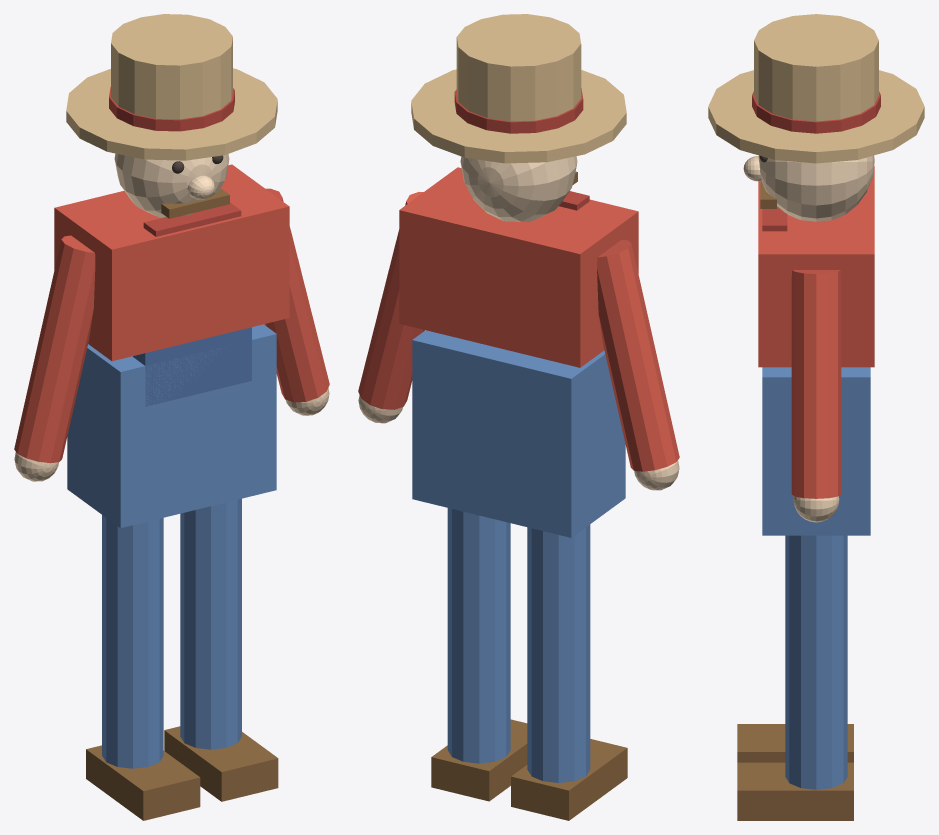
Rendered from farmer.glb.
The picture shows the model from 3 angles, left to right: view 1: azimuth 30°, elevation 25°; view 2: azimuth 150°, elevation 25°; view 3: azimuth 270°, elevation 25°; orthographic projection.
Parts seen in each view (by area): view 1: Overalls, Shirt, Leg_L, Leg_R, Hat, Arm_L, HatBrim, OverallsBib, Boot_L, Arm_R, Boot_R, Head (+4 smaller); view 2: Overalls, Shirt, Leg_L, Leg_R, Hat, Arm_L, HatBrim, Head, Arm_R, Boot_L, Boot_R, HatBand (+2 smaller); view 3: Leg_R, Shirt, Hat, Arm_R, Overalls, HatBrim, Head, Boot_R, Boot_L, HatBand, Hand_R, ShirtCollar.
Boxes of the visible parts, x1,y1,x2,y2 form: Overalls: [67, 324, 276, 528]; Shirt: [54, 164, 289, 361]; Leg_L: [102, 515, 163, 768]; Leg_R: [180, 498, 241, 749]; Hat: [111, 14, 232, 119]; Arm_L: [14, 235, 95, 463]; HatBrim: [66, 68, 277, 160]; OverallsBib: [133, 327, 251, 406]; Boot_L: [86, 745, 200, 820]; Arm_R: [264, 188, 329, 402]; Boot_R: [164, 726, 278, 801]; Head: [114, 153, 229, 217]; Overalls: [412, 330, 625, 537]; Shirt: [399, 167, 638, 367]; Leg_L: [527, 524, 590, 782]; Leg_R: [447, 508, 510, 763]; Hat: [456, 14, 581, 121]; Arm_L: [597, 239, 679, 471]; HatBrim: [411, 69, 626, 163]; Head: [460, 156, 577, 222]; Arm_R: [358, 192, 424, 409]; Boot_L: [511, 739, 627, 820]; Boot_R: [431, 719, 527, 801]; HatBand: [454, 88, 583, 133]; Leg_R: [785, 535, 847, 789]; Shirt: [758, 166, 874, 367]; Hat: [754, 14, 878, 121]; Arm_R: [791, 270, 841, 498]; Overalls: [762, 367, 870, 535]; HatBrim: [708, 70, 924, 163]; Head: [758, 155, 874, 221]; Boot_R: [737, 762, 853, 820]; Boot_L: [737, 724, 853, 762]; HatBand: [752, 91, 880, 133]; Hand_R: [793, 496, 839, 522]; ShirtCollar: [762, 206, 787, 231].
Bounding box in the file's own units: 0.87 × 1.98 × 0.52.
